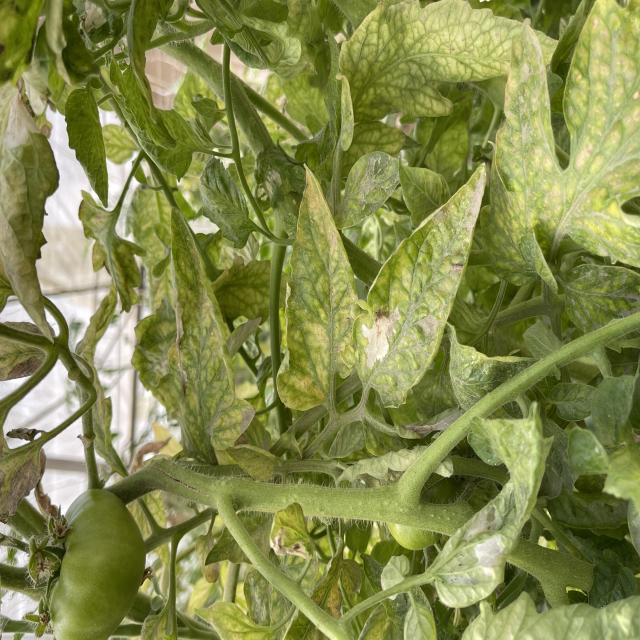Tuta absoluta: (359, 306, 407, 369)
